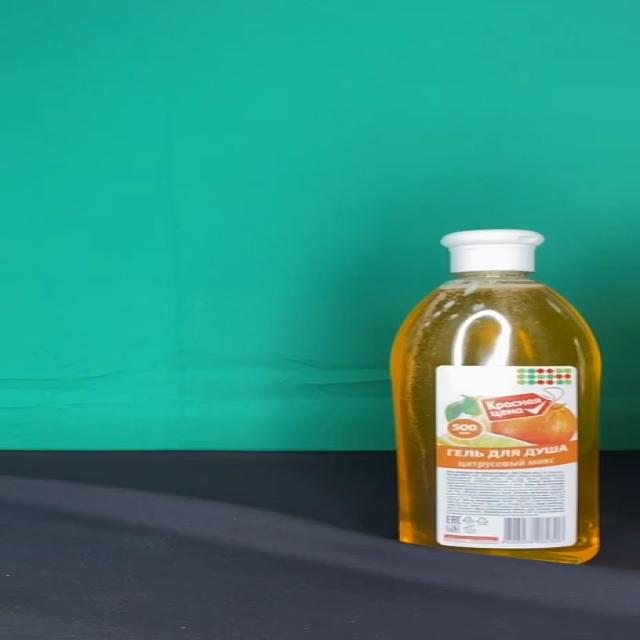Bottle: (393, 229, 602, 563)
Cap: (442, 229, 544, 272)
